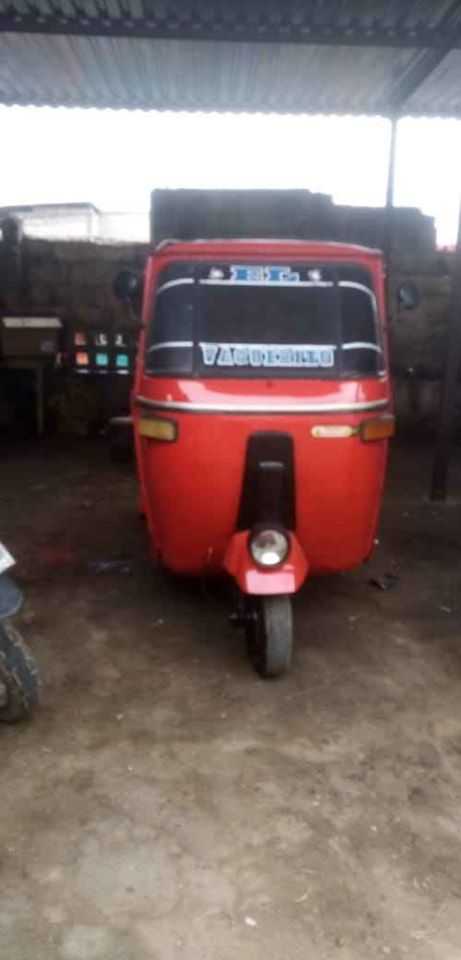mototaxi: (127, 232, 404, 676)
